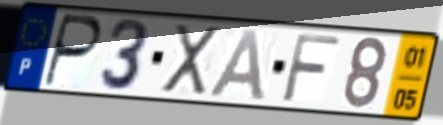3: (98, 17, 153, 94)
8: (342, 35, 388, 112)
A: (205, 27, 268, 104)
F: (278, 31, 344, 106)
P: (40, 11, 105, 90)
X: (159, 22, 222, 97)
